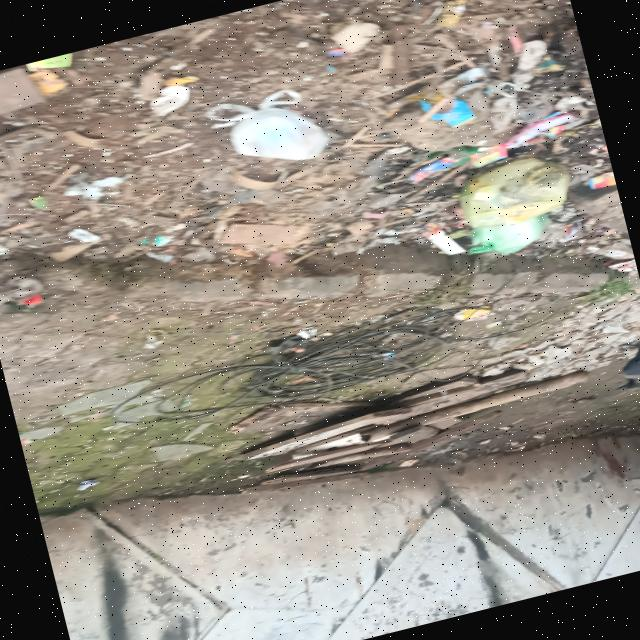garbage: (0, 0, 358, 257), (378, 2, 624, 267)
